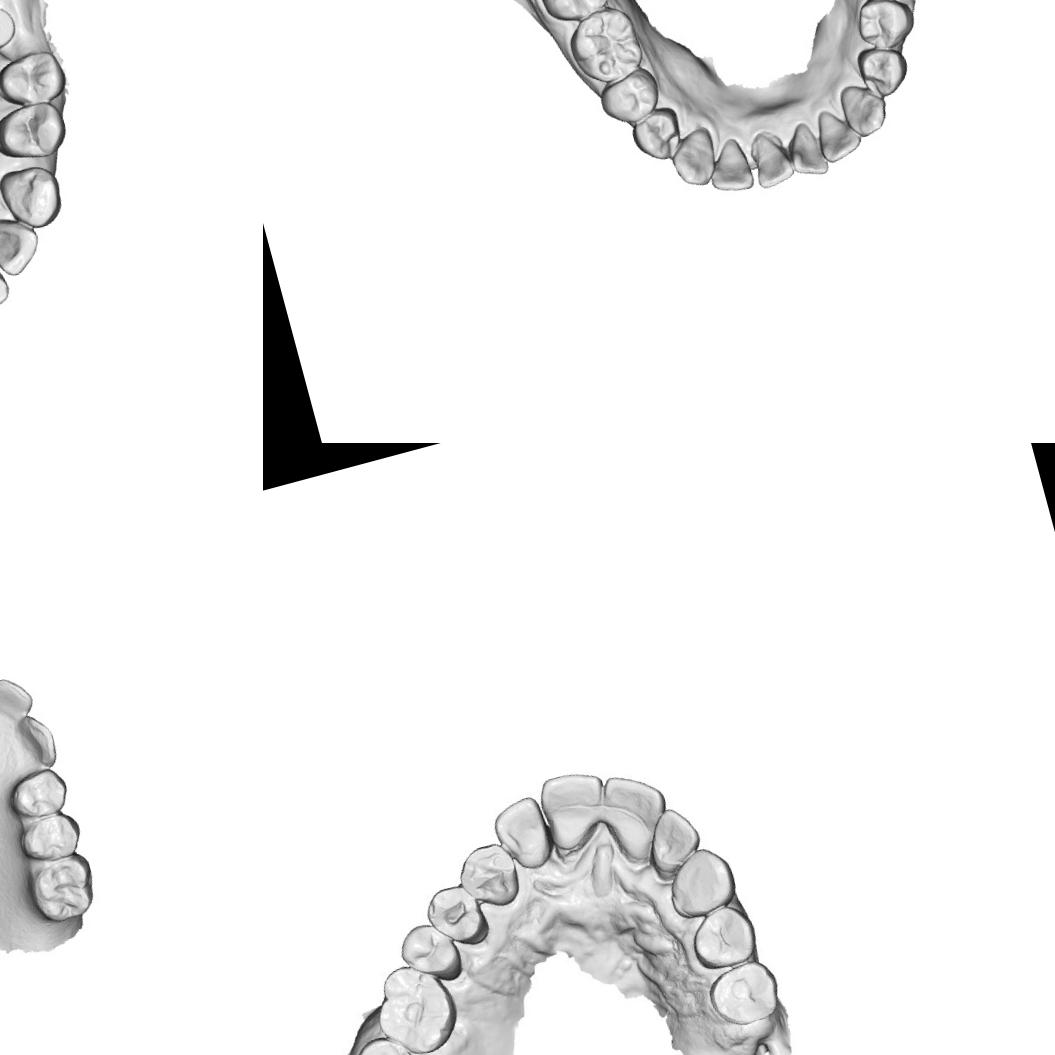canine: (655, 840, 740, 920), (0, 156, 71, 236), (455, 839, 525, 910), (663, 123, 724, 192), (836, 76, 893, 140), (11, 708, 60, 772)
implant: (0, 0, 22, 53)
incisor: (533, 764, 613, 856), (596, 764, 672, 860), (491, 795, 555, 872), (639, 804, 700, 870), (700, 134, 756, 198), (0, 207, 46, 283), (810, 102, 865, 164), (744, 125, 797, 189), (782, 116, 830, 180), (0, 670, 37, 726)
molar: (369, 957, 462, 1055), (560, 0, 648, 91), (22, 849, 102, 928), (526, 0, 616, 28), (340, 1033, 429, 1055)
premolar: (704, 957, 784, 1038), (0, 92, 75, 169), (0, 44, 73, 115), (13, 804, 87, 870), (593, 64, 666, 130), (684, 904, 755, 970), (424, 881, 489, 953), (1, 761, 73, 825), (850, 38, 914, 102), (397, 920, 461, 982), (849, 0, 919, 53), (626, 109, 686, 167)
